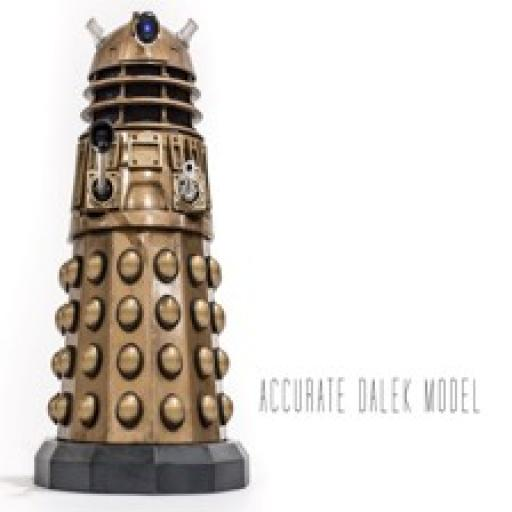dalek: (32, 12, 254, 497)
